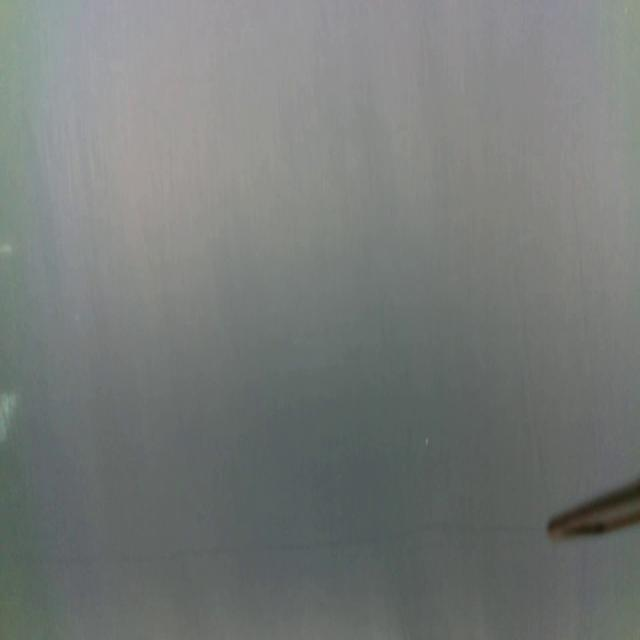hole: (425, 434, 430, 448)
